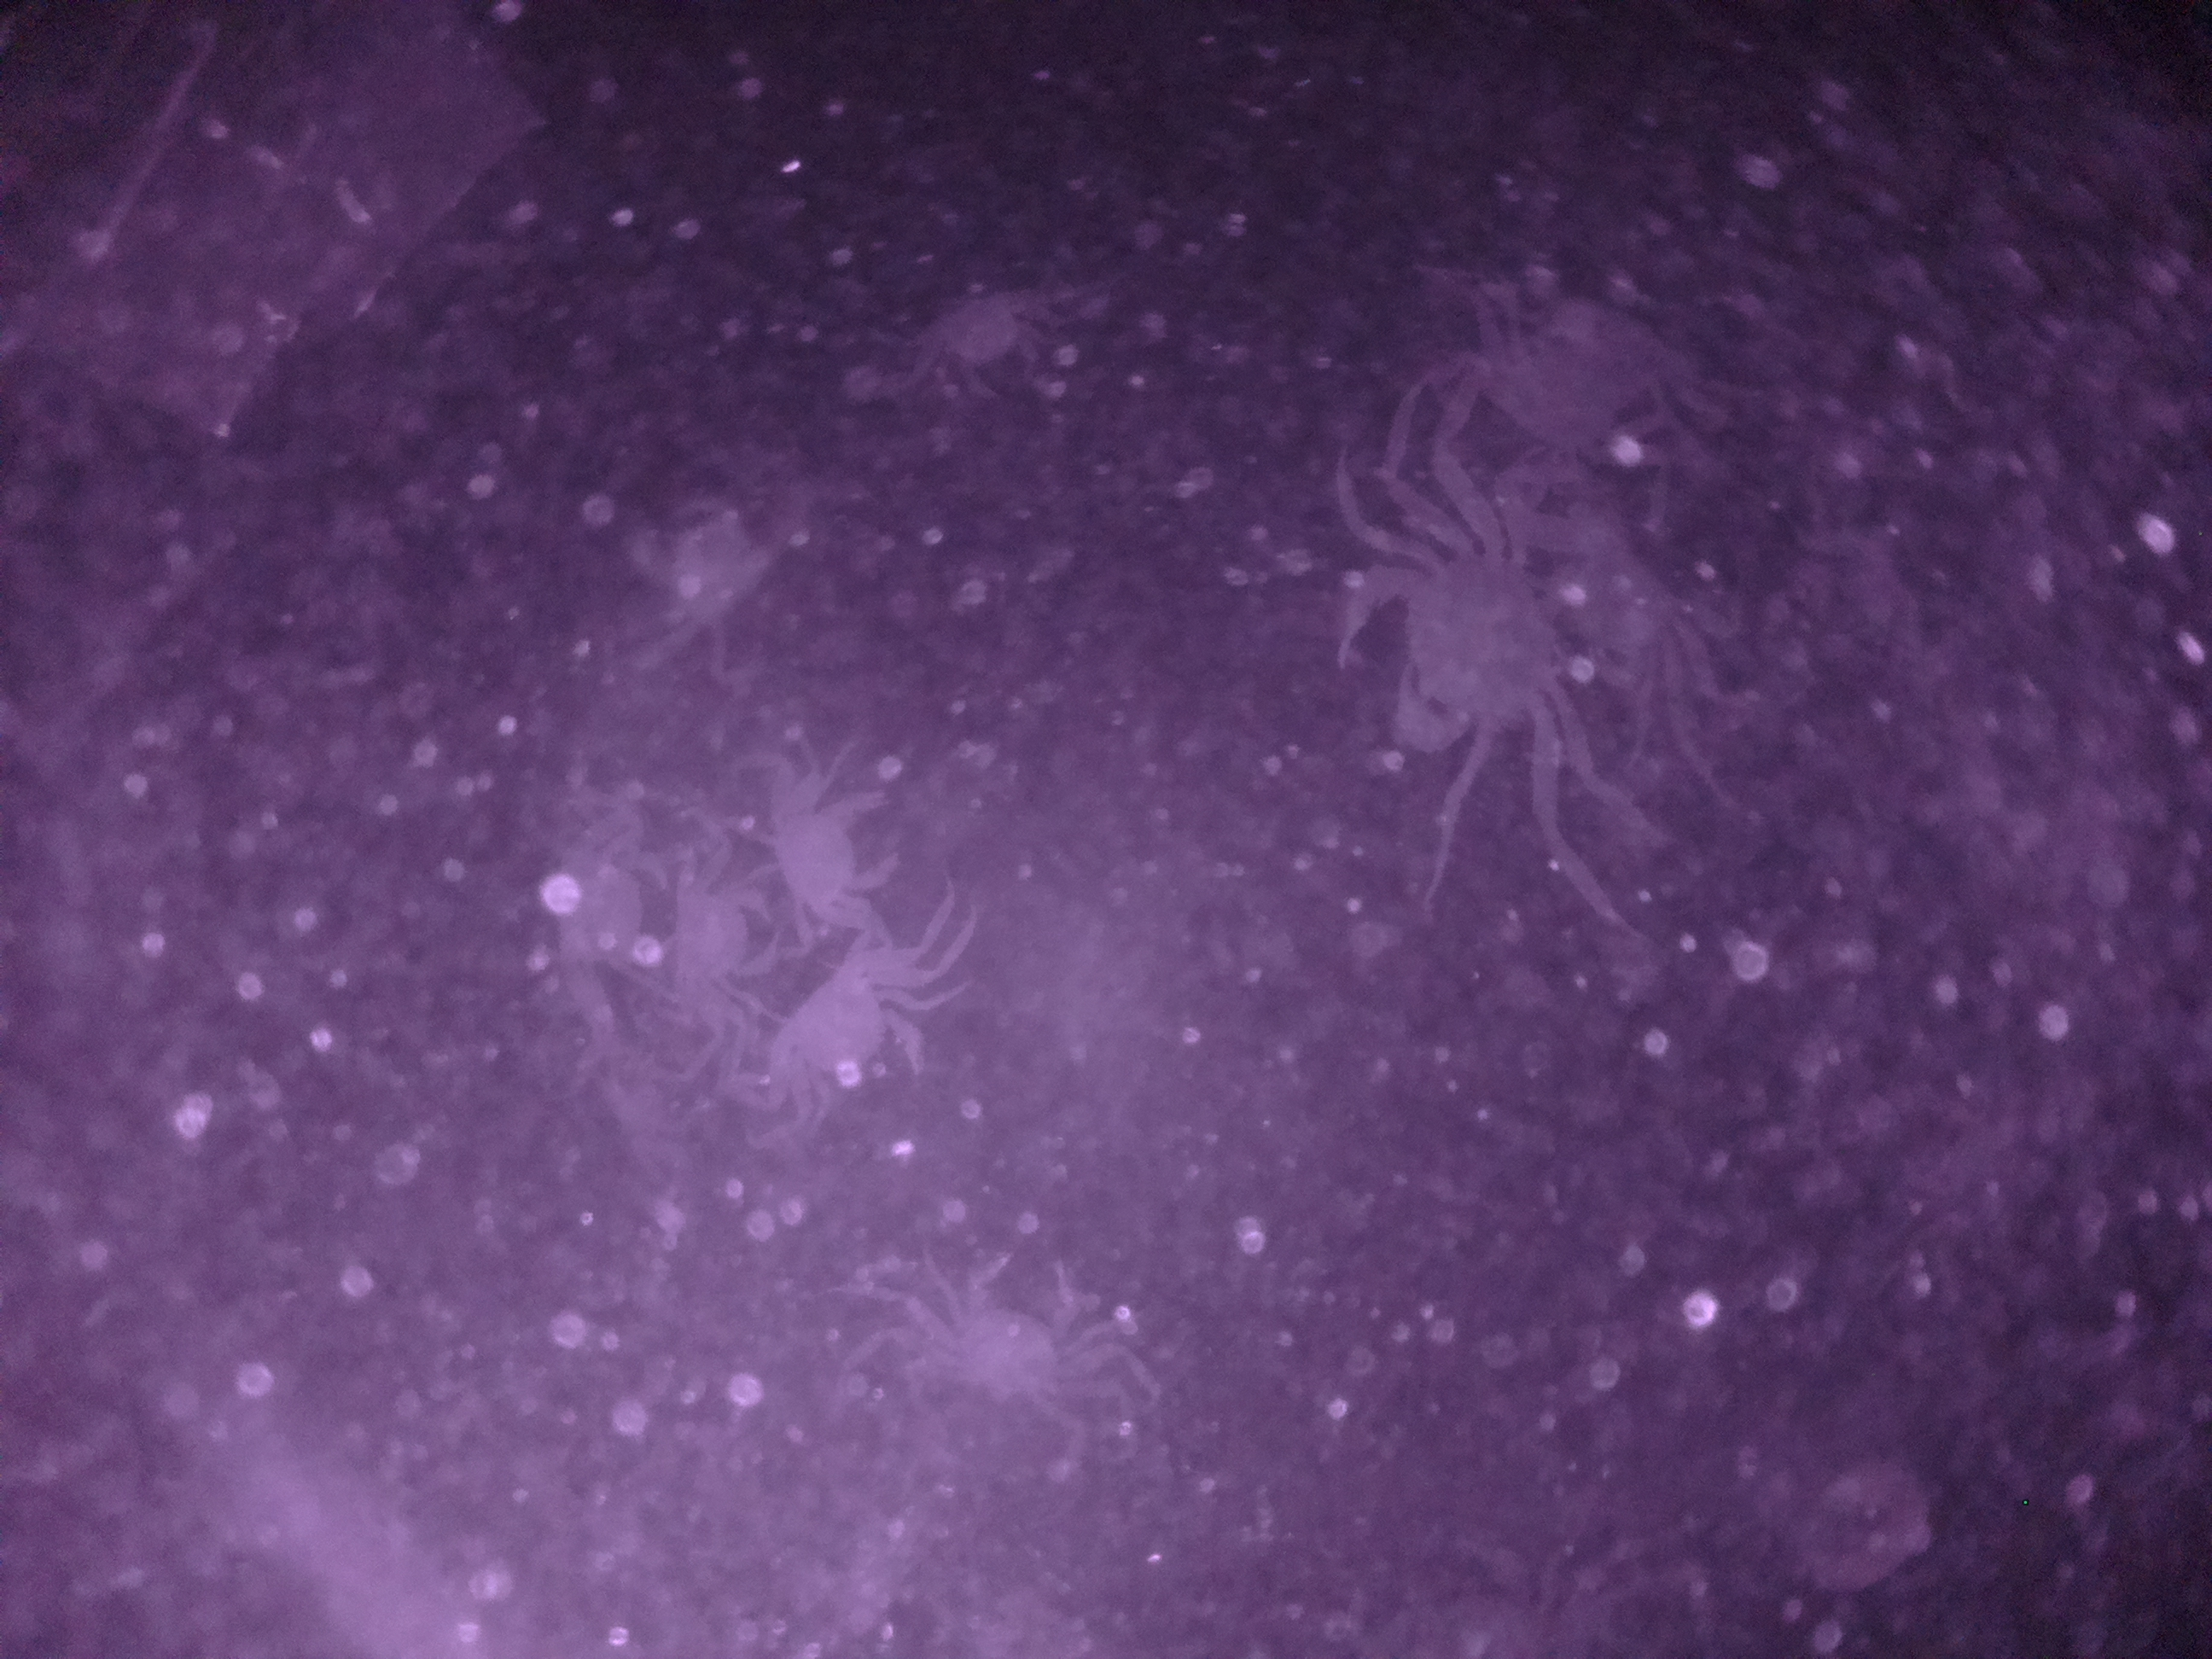Crab: (1325, 516, 1587, 774), (928, 1223, 1104, 1445), (745, 775, 934, 950), (761, 939, 923, 1129)
